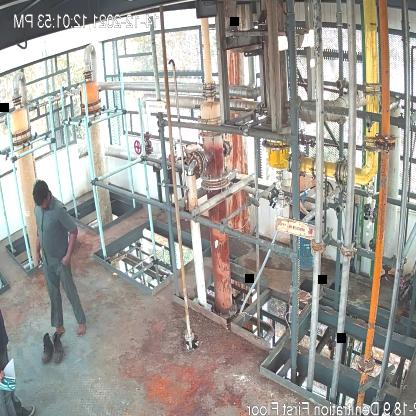no_shoes: (76, 316, 89, 336)
shoes: (38, 330, 54, 370), (52, 331, 66, 363)
